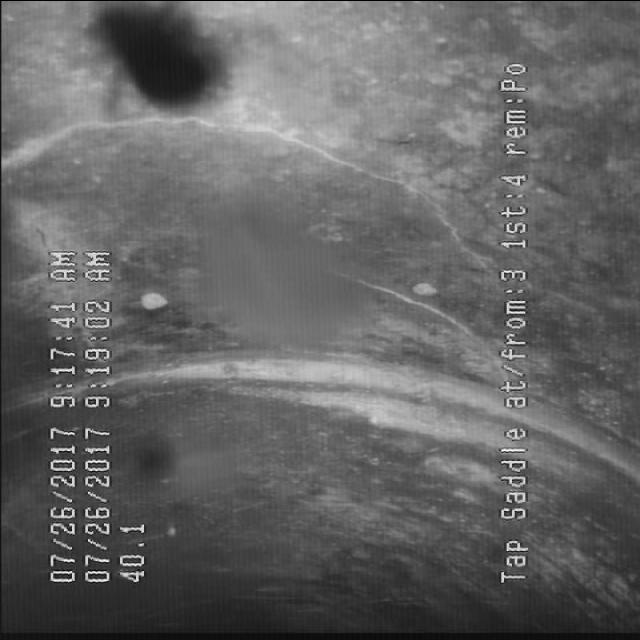Crack: (0, 64, 457, 220)
